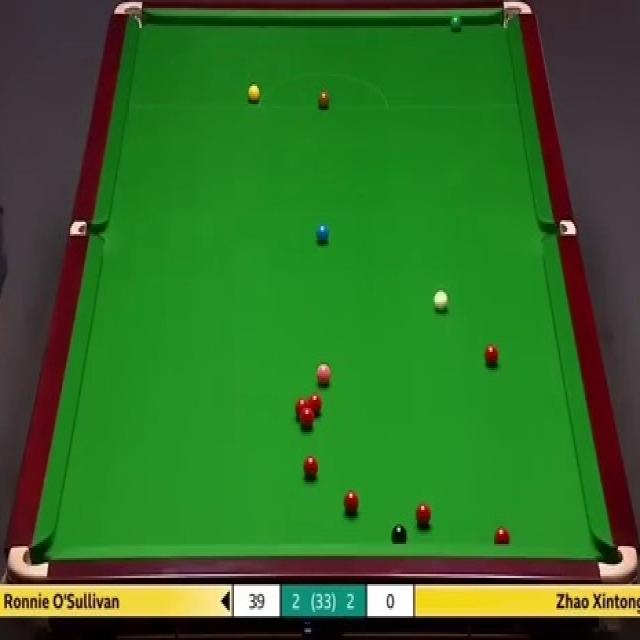black-ball: (391, 523, 406, 543)
blue-ball: (315, 222, 331, 245)
brown-ball: (317, 88, 331, 111)
green-ball: (450, 14, 463, 30)
pink-ball: (316, 362, 332, 385)
red-ball: (343, 489, 359, 517), (415, 502, 432, 528), (304, 455, 319, 480), (495, 526, 511, 546), (485, 344, 499, 366), (301, 408, 314, 430), (309, 393, 322, 415), (296, 399, 308, 412)
white-ball: (433, 289, 449, 313)
yellow-ball: (247, 83, 260, 103)
